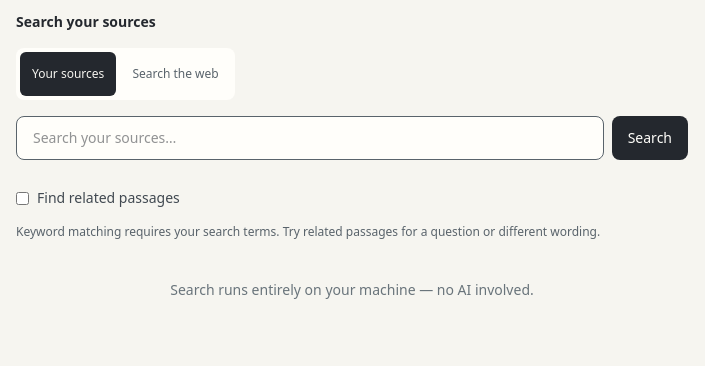
it: a single web result uses the singular
Click the button "Search the web": (176, 74) [120,52,231,96]
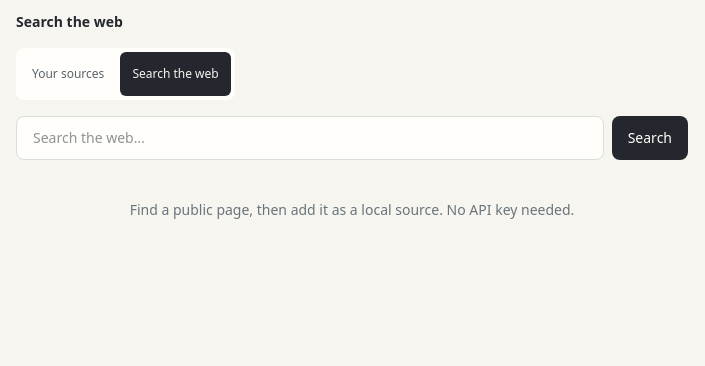
In the search field with placeholder "Search the web…": (310, 138) [16,116,604,160], type "cells"
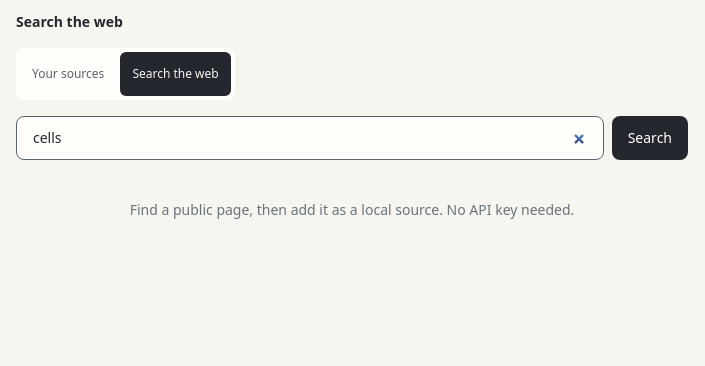
Submit the form with placeholder "search the web", box [16,116,688,160]
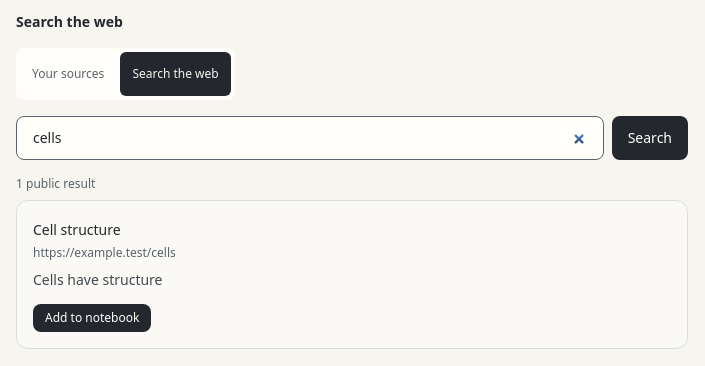
Check: the message named "Web search result count" reads "1 public result", box [16,175,95,192]
